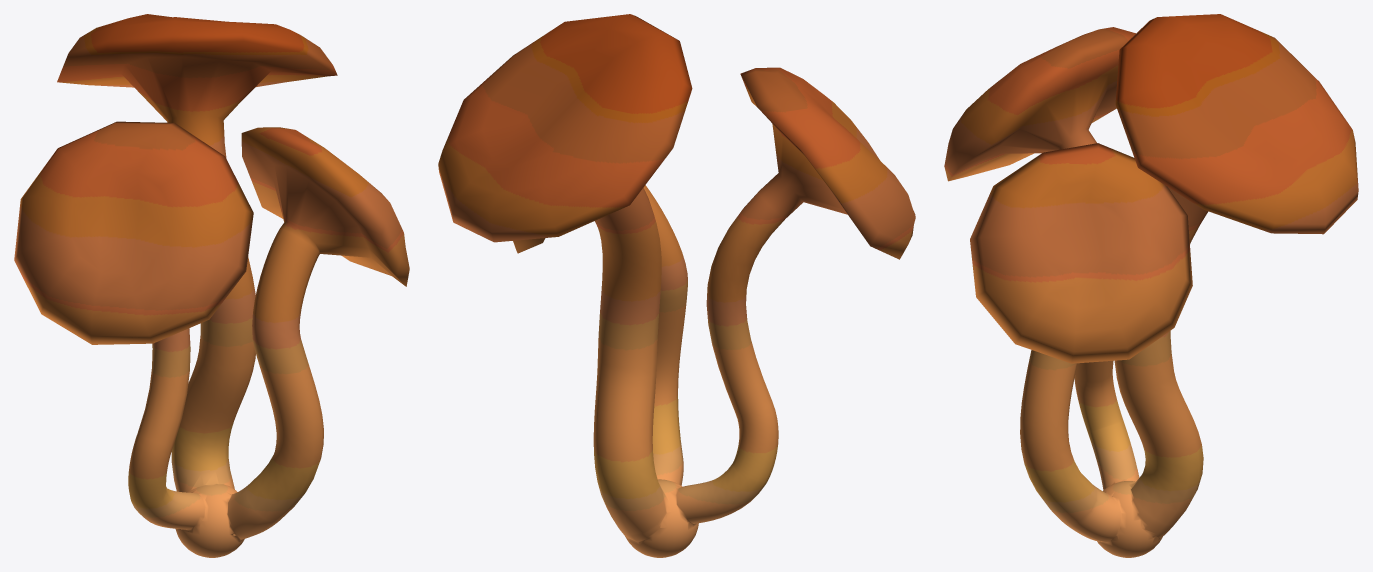
The model's file is JackMushPosterized.glb.
3 views of the same model, side by side, from view 1: azimuth 30°, elevation 25°; view 2: azimuth 150°, elevation 25°; view 3: azimuth 270°, elevation 25° (orthographic). The views are drawn at different scales.
Parts seen in each view (by area): view 1: Sphere.002; view 2: Sphere.002; view 3: Sphere.002.
Part boxes in pixels (x1,y1,x2,y2): Sphere.002: [14, 14, 409, 557]; Sphere.002: [438, 14, 915, 557]; Sphere.002: [944, 14, 1358, 557].
Bounding box in the file's own units: 8.77 × 12.09 × 8.57.
Materials: 1 (1 with a texture image).
